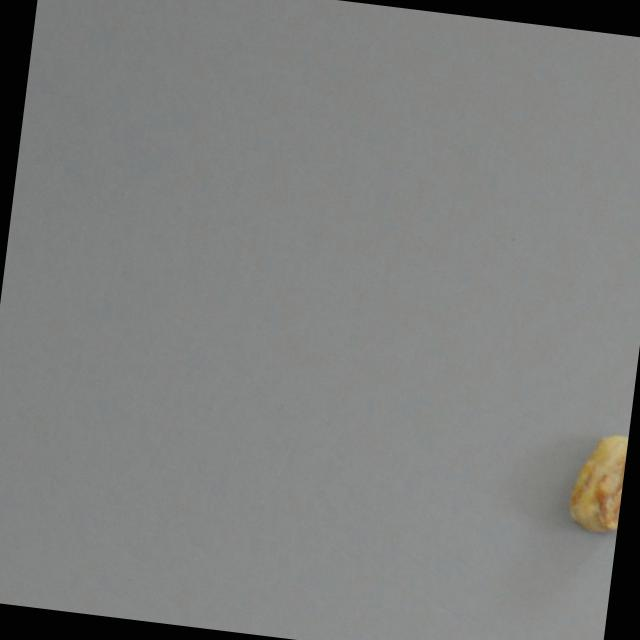dañado: (563, 429, 628, 534)
